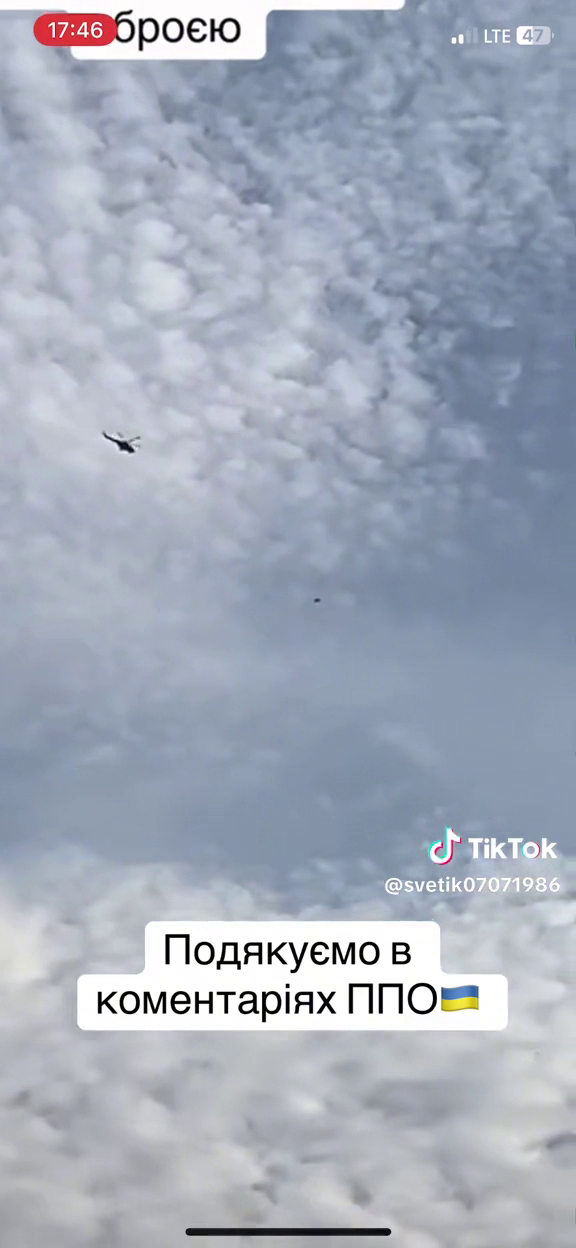not_drone: (96, 423, 149, 460)
